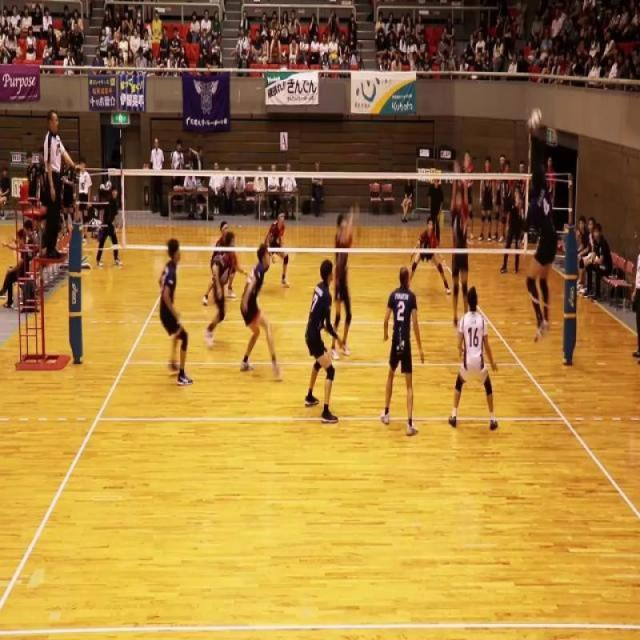volleyball: (526, 107, 542, 134)
